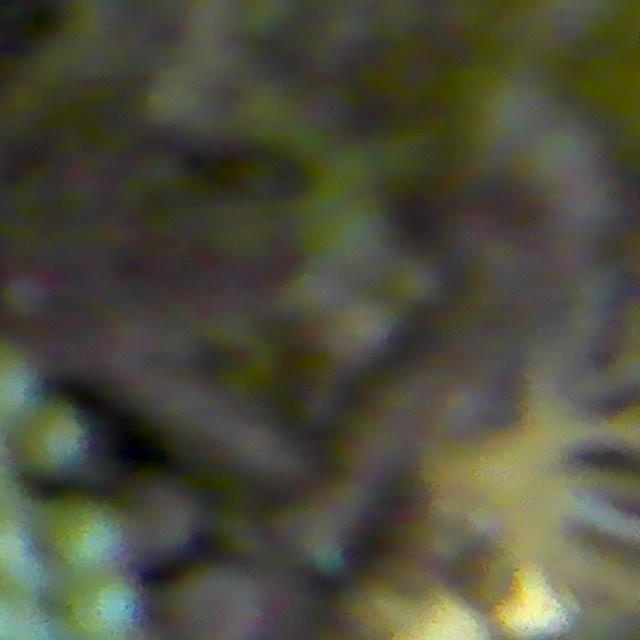SeaGrape: (42, 501, 127, 576), (20, 397, 81, 480), (68, 576, 145, 640)
